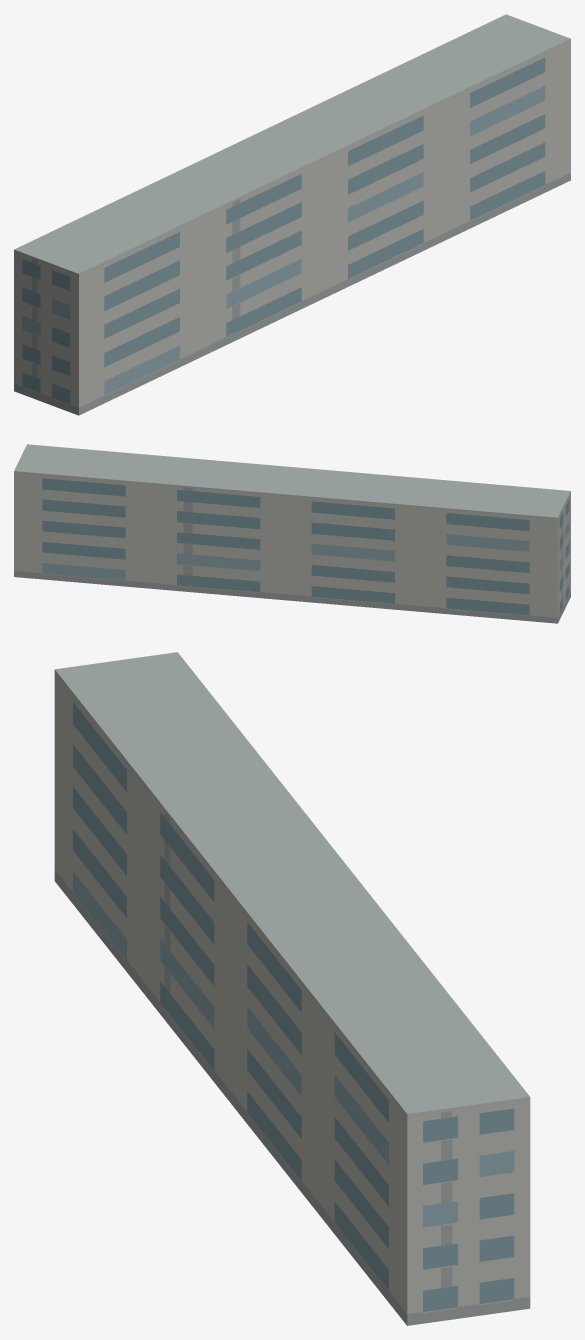
File: survey-upis-32766755.glb
The picture shows the model from 3 angles, top to bottom: view 1: azimuth 30°, elevation 25°; view 2: azimuth 150°, elevation 25°; view 3: azimuth 270°, elevation 25°; orthographic projection. The views are drawn at different scales.
Visible parts, largest first — view 1: survey-upis-32766755.tmp; view 2: survey-upis-32766755.tmp; view 3: survey-upis-32766755.tmp.
Part boxes in pixels (x1,y1,x2,y2): survey-upis-32766755.tmp: (14, 14, 570, 415); survey-upis-32766755.tmp: (14, 444, 570, 623); survey-upis-32766755.tmp: (54, 652, 530, 1325).
Bounding box in the file's own units: 71.36 × 15.25 × 31.04.
